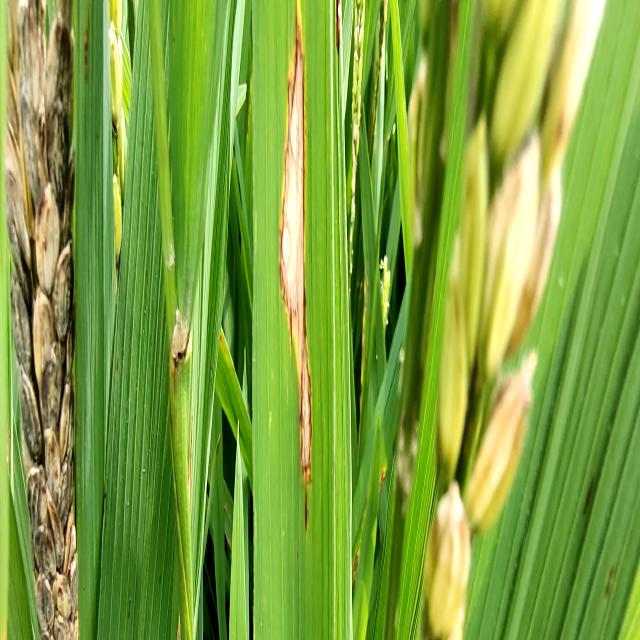LEAF BLAST: (279, 0, 313, 532)
